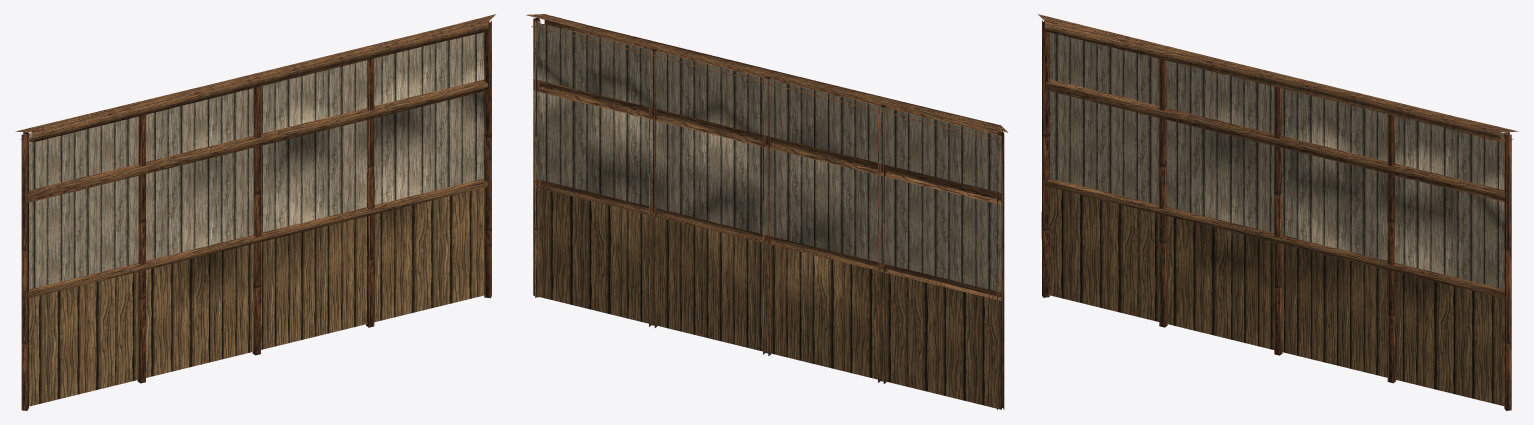
File: LAKETOWN_WAREHOUSE2_PS_WH2_SIDEWALL3838__GX.fbx
3 views of the same model, side by side, from view 1: azimuth 30°, elevation 25°; view 2: azimuth 150°, elevation 25°; view 3: azimuth 330°, elevation 25° (orthographic).
Parts seen in each view (by area): view 1: LAKETOWN_WAREHOUSE2_PS_WH2_SIDEWALL3838__GX; view 2: LAKETOWN_WAREHOUSE2_PS_WH2_SIDEWALL3838__GX; view 3: LAKETOWN_WAREHOUSE2_PS_WH2_SIDEWALL3838__GX.
Boxes of the visible parts, x1=… form: LAKETOWN_WAREHOUSE2_PS_WH2_SIDEWALL3838__GX: x1=15, y1=14, x2=495, y2=410; LAKETOWN_WAREHOUSE2_PS_WH2_SIDEWALL3838__GX: x1=526, y1=14, x2=1007, y2=410; LAKETOWN_WAREHOUSE2_PS_WH2_SIDEWALL3838__GX: x1=1038, y1=14, x2=1518, y2=410.
Bounding box in the file's own units: 205285 × 114126 × 4885.
Materials: 5 (5 with a texture image).
